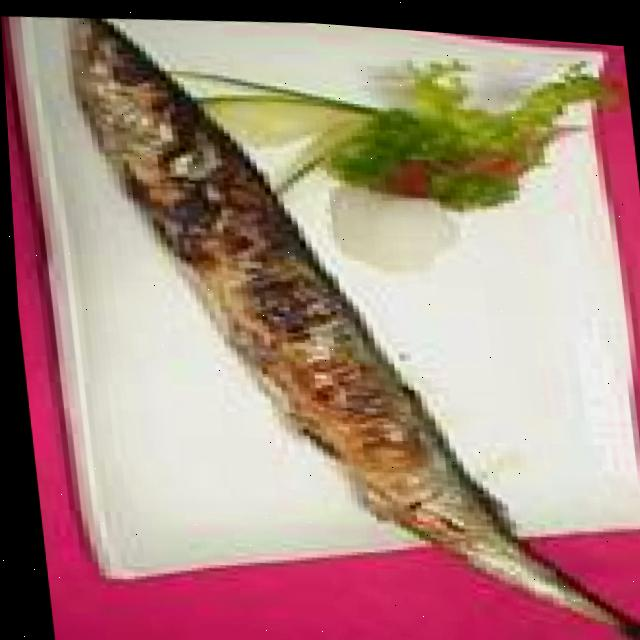熟制海鲜: (47, 3, 640, 640)
